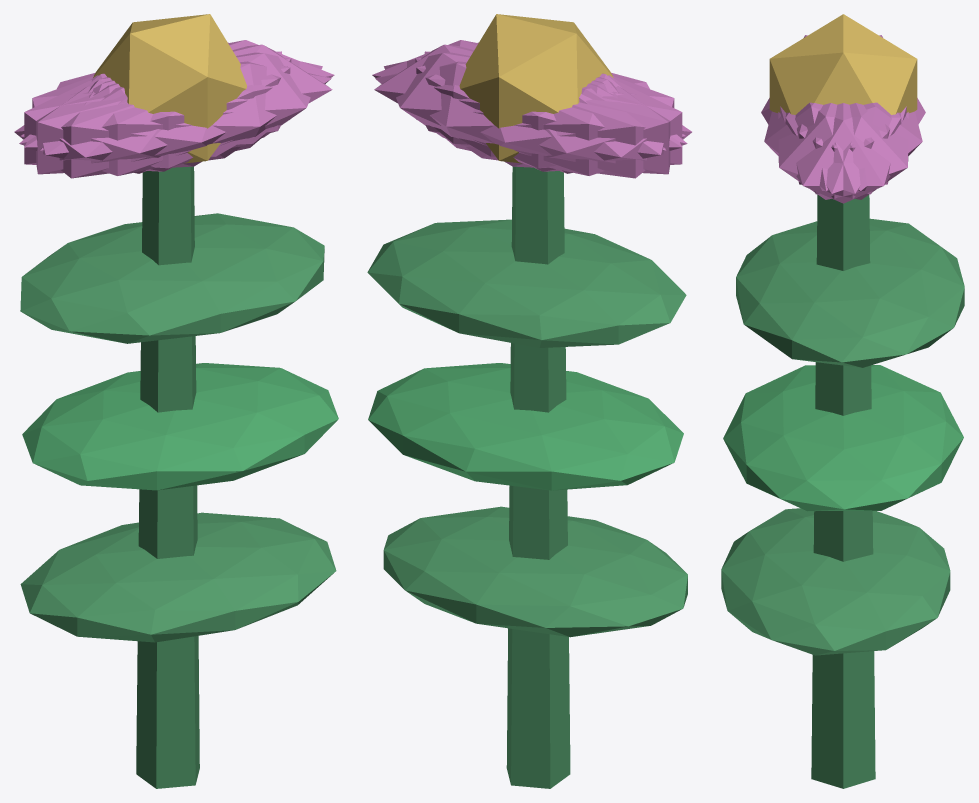
Rendered from bauhinia-acuminata.glb.
3 views of the same model, side by side, from view 1: azimuth 30°, elevation 25°; view 2: azimuth 150°, elevation 25°; view 3: azimuth 270°, elevation 25° (orthographic).
Parts seen in each view (by area): view 1: leaf0, leaf1, leaf2, stem, center, petal1, petal6, petal2, petal5, petal7, petal0, petal4 (+2 smaller); view 2: leaf2, leaf1, leaf0, stem, center, petal8, petal3, petal7, petal4, petal2, petal0, petal5 (+2 smaller); view 3: leaf1, leaf2, leaf0, stem, center, petal0, petal4, petal5, petal1, petal8.
Boxes of the visible parts, <box> form: leaf0: <box>20,512,336,642</box>; leaf1: <box>22,363,338,490</box>; leaf2: <box>20,213,324,343</box>; stem: <box>136,166,199,788</box>; center: <box>93,14,246,163</box>; petal1: <box>19,61,331,175</box>; petal6: <box>14,75,240,178</box>; petal2: <box>36,51,281,174</box>; petal5: <box>40,52,322,168</box>; petal7: <box>24,58,291,171</box>; petal0: <box>92,44,332,157</box>; petal4: <box>20,40,334,147</box>; leaf2: <box>367,219,686,347</box>; leaf1: <box>368,363,683,490</box>; leaf0: <box>383,506,687,637</box>; stem: <box>506,166,570,788</box>; center: <box>459,14,613,163</box>; petal8: <box>375,61,687,175</box>; petal3: <box>466,75,691,178</box>; petal7: <box>424,51,670,174</box>; petal4: <box>384,52,666,168</box>; petal2: <box>415,58,682,171</box>; petal0: <box>374,44,613,157</box>; petal5: <box>372,40,685,147</box>; leaf1: <box>723,365,963,511</box>; leaf2: <box>736,218,964,367</box>; leaf0: <box>721,508,950,655</box>; stem: <box>811,194,875,788</box>; center: <box>769,14,917,114</box>; petal0: <box>780,103,906,203</box>; petal4: <box>785,103,908,199</box>; petal5: <box>778,103,901,199</box>; petal1: <box>764,102,889,191</box>; petal8: <box>797,102,922,191</box>.
Bounding box in the file's own units: 0.1452 × 0.3394 × 0.101.
